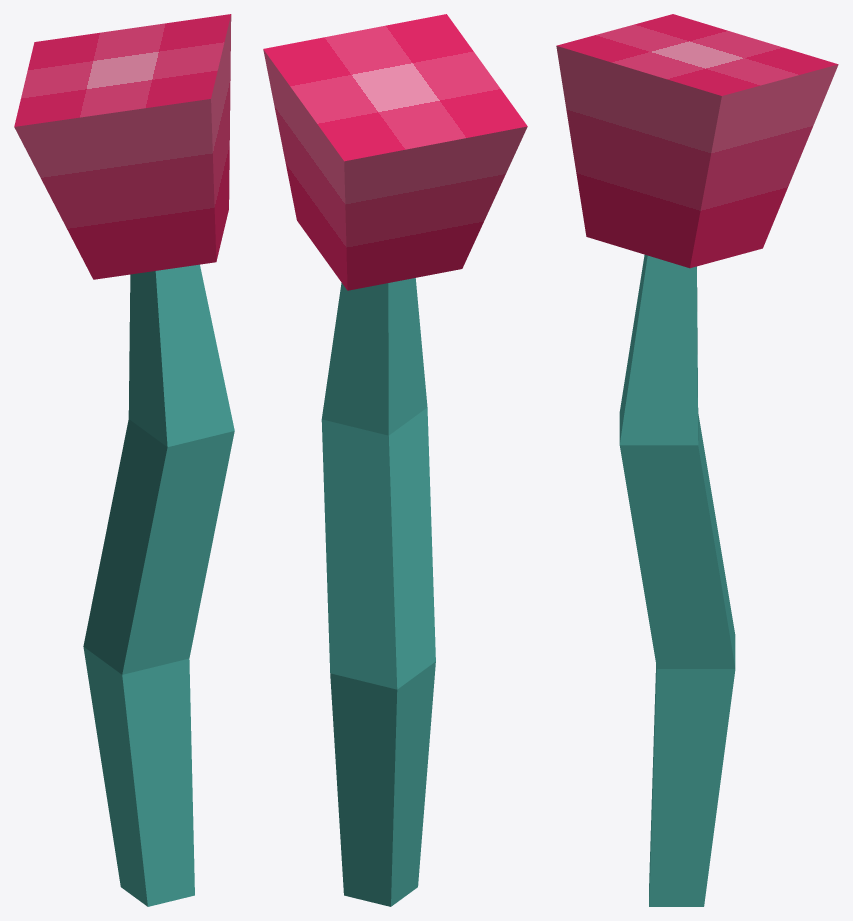
The model's file is Flower.gltf.
3 renders of one model, left to right at view 1: azimuth 30°, elevation 25°; view 2: azimuth 150°, elevation 25°; view 3: azimuth 270°, elevation 25°, orthographic.
Visible parts, largest first — view 1: Flower Bud; view 2: Flower Bud; view 3: Flower Bud.
Part boxes in pixels (<box>): Flower Bud: <box>14,14,234,906</box>; Flower Bud: <box>263,14,527,906</box>; Flower Bud: <box>556,14,838,906</box>.
Size of the model in its own units: 0.2242 by 0.7439 by 0.2249.
Materials: 2 (2 with a texture image).
